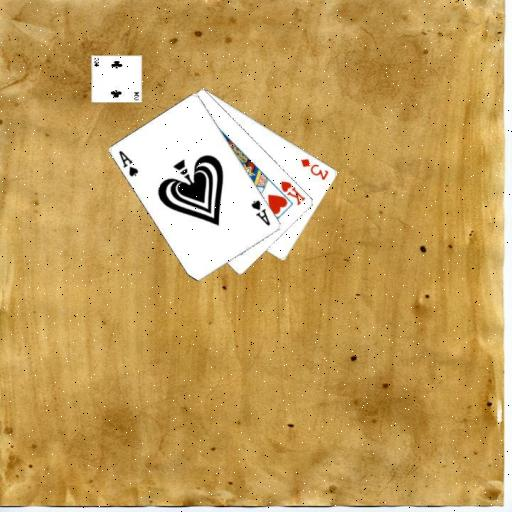3D: (297, 155, 331, 181)
AS: (116, 147, 140, 179), (249, 198, 273, 228)
KH: (278, 178, 308, 207)
